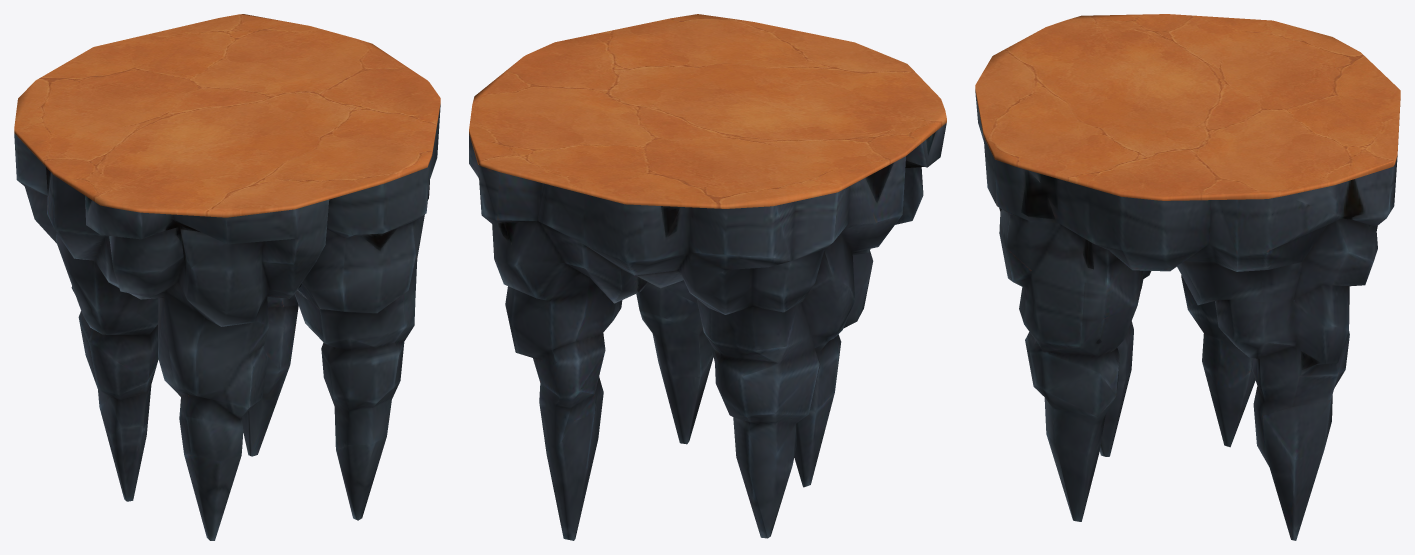
File: nightrock.glb
3 renders of one model, left to right at view 1: azimuth 30°, elevation 25°; view 2: azimuth 150°, elevation 25°; view 3: azimuth 270°, elevation 25°, orthographic. The views are drawn at different scales.
Visible parts, largest first — view 1: nightrock; view 2: nightrock; view 3: nightrock.
Boxes of the visible parts, x1=… form: nightrock: x1=14, y1=14, x2=440, y2=540; nightrock: x1=469, y1=14, x2=946, y2=540; nightrock: x1=975, y1=14, x2=1400, y2=540.
Bounding box in the file's own units: 0.9885 × 1 × 0.9747.
Materials: 1 (1 with a texture image).
